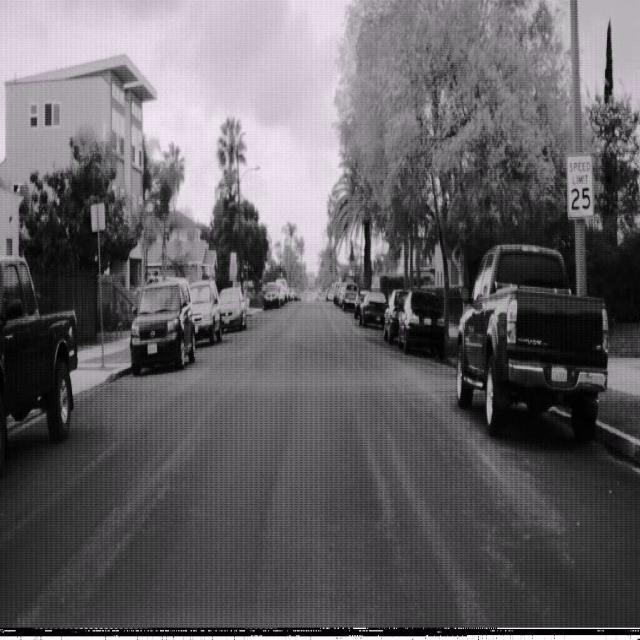speedLimit25: (565, 152, 594, 219)
